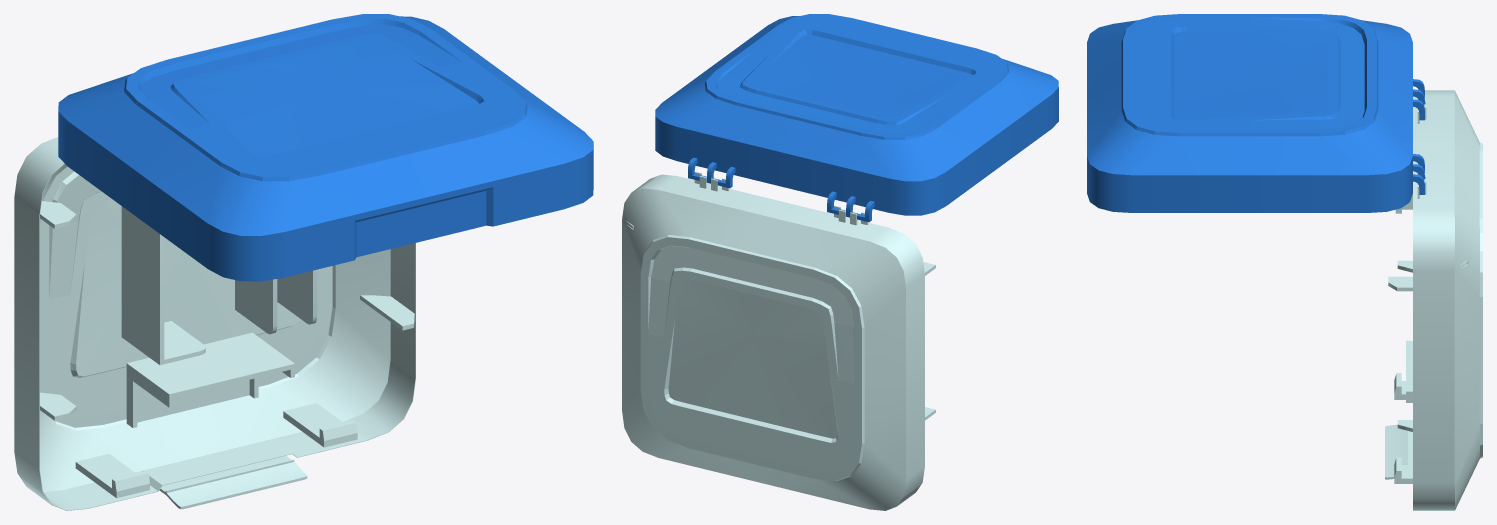
3 renders of one model, left to right at view 1: azimuth 30°, elevation 25°; view 2: azimuth 150°, elevation 25°; view 3: azimuth 270°, elevation 25°, orthographic. The views are drawn at different scales.
Parts seen in each view (by area): view 1: ke002, ke003, ke000, ke001; view 2: ke003, ke002; view 3: ke002, ke003, ke001, ke000.
Boxes of the visible parts, left/top/right/bottom form: ke002: left=58, top=14, right=593, bottom=281; ke003: left=14, top=137, right=415, bottom=510; ke000: left=75, top=403, right=357, bottom=498; ke001: left=159, top=456, right=307, bottom=509; ke003: left=622, top=171, right=935, bottom=510; ke002: left=655, top=14, right=1058, bottom=222; ke002: left=1087, top=14, right=1424, bottom=212; ke003: left=1388, top=90, right=1482, bottom=510; ke001: left=1385, top=424, right=1412, bottom=479; ke000: left=1394, top=373, right=1412, bottom=483.
Bounding box in the file's own units: 1309 × 1522 × 1435.
